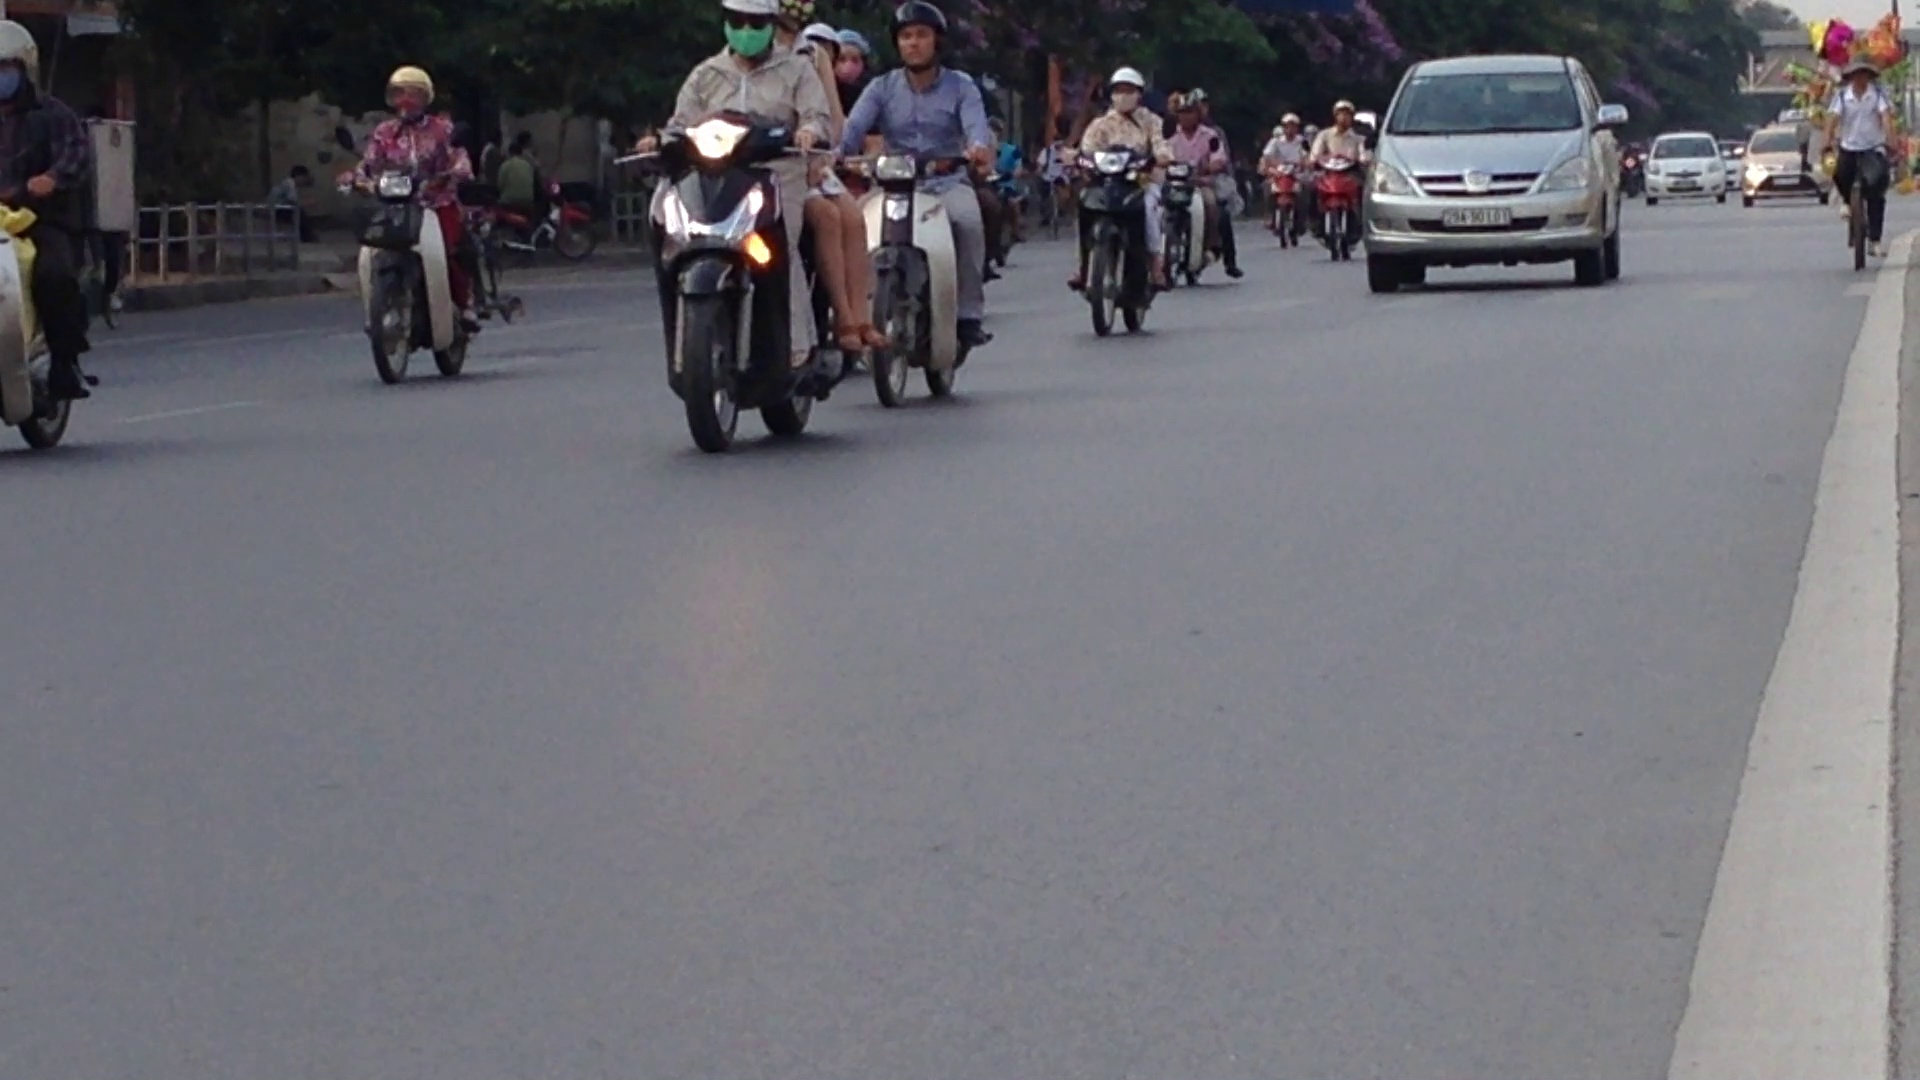vehicle-plate: (1439, 200, 1517, 231)
